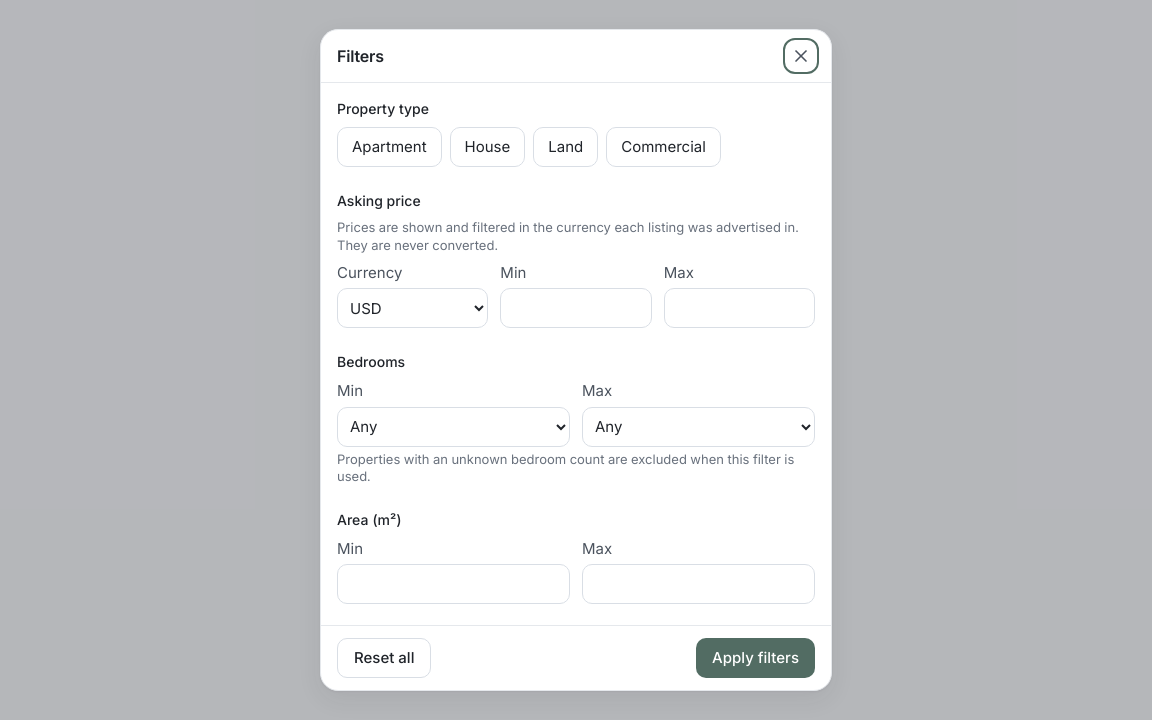
Test: FilterSheet › validates inverted ranges
Step 1. Type "500" into the number field labelled "Min" below "Asking price" → [576, 308], box [500, 288, 652, 328]
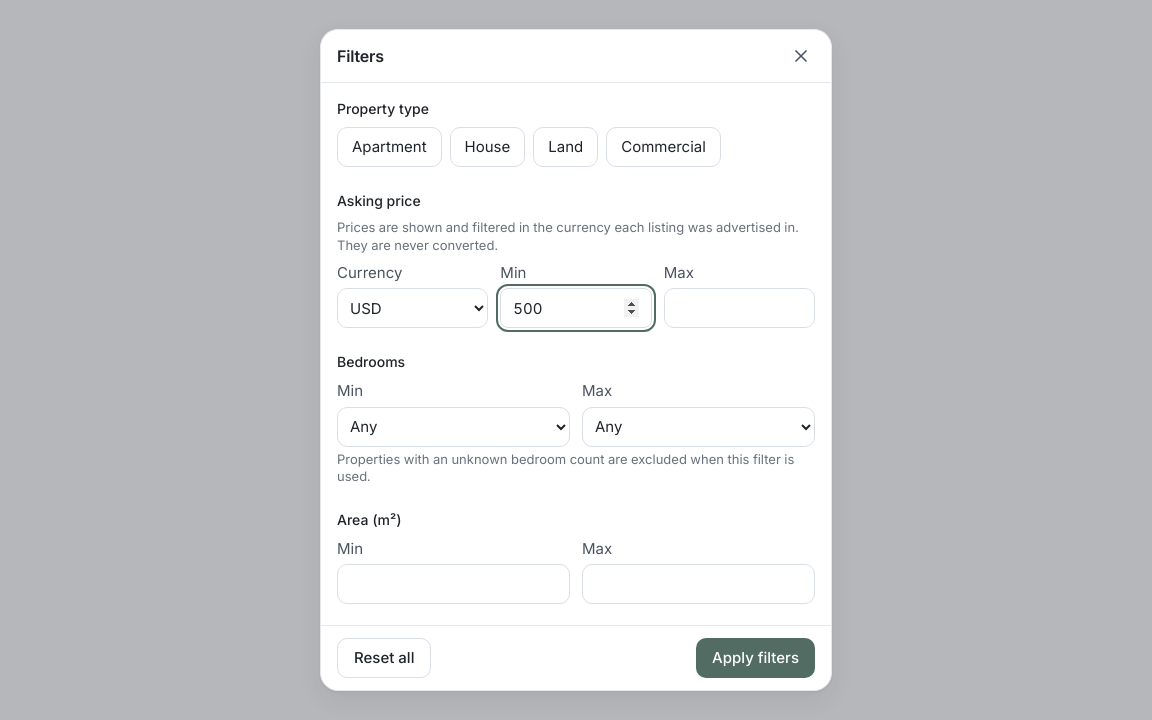
Step 2. Type "100" into the number field labelled "Max" below "Asking price" → [739, 308], box [664, 288, 815, 328]
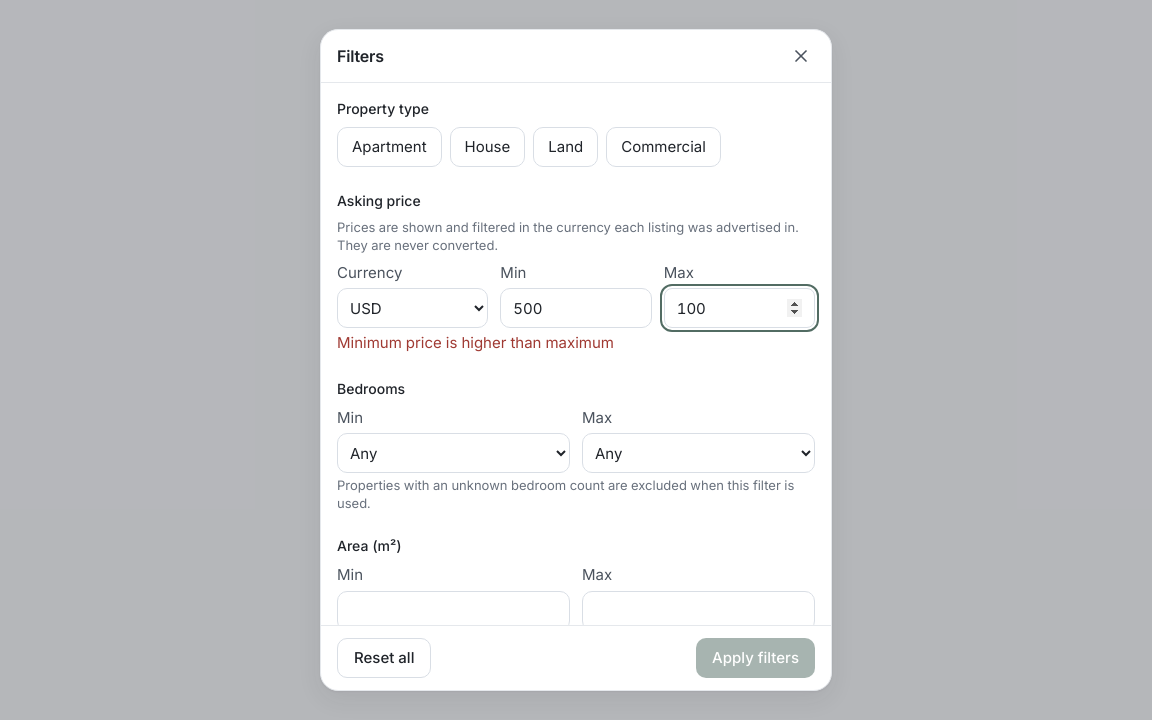
Check: the text "Minimum price is higher than maximum" is shown, box [337, 334, 614, 352]
Check: the button "Apply filters" is disabled, box [696, 638, 815, 678]
